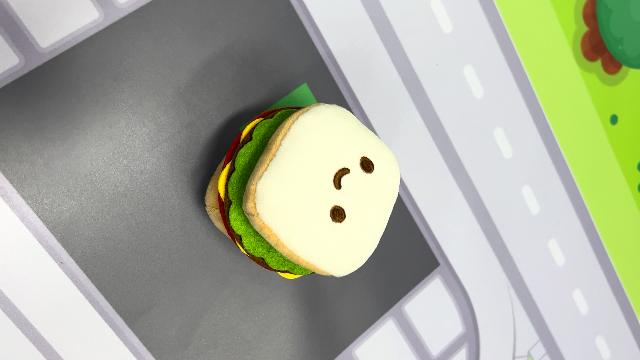sandwich: (203, 99, 403, 281)
